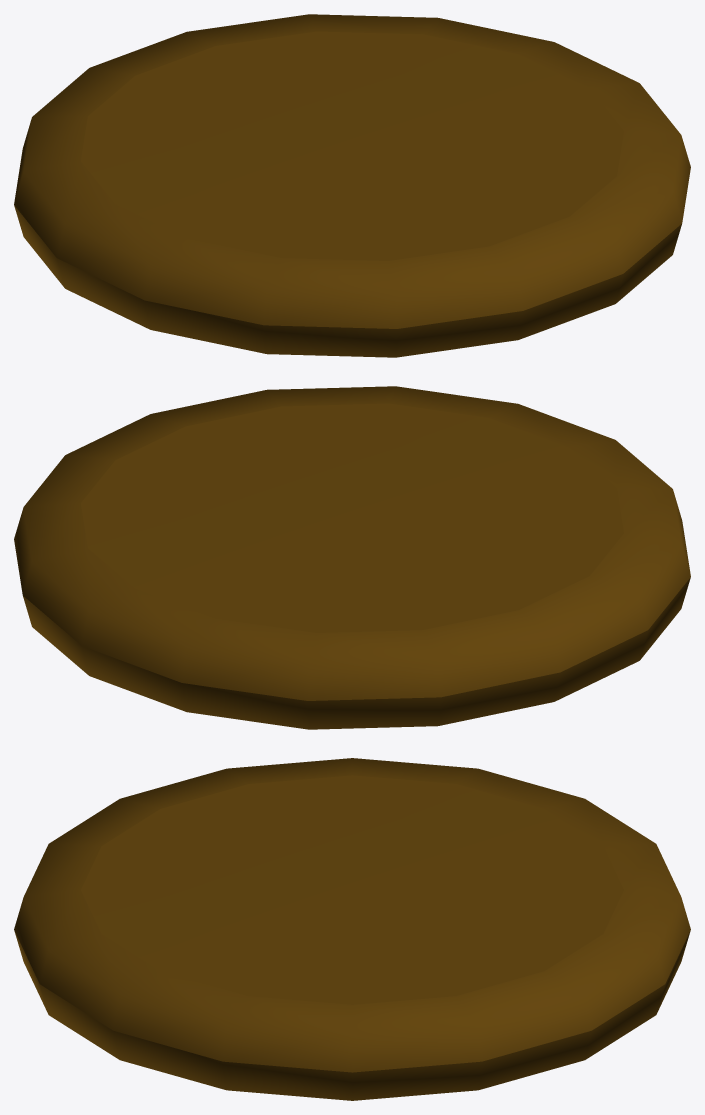
The model's file is burger_beef.fbx.
The picture shows the model from 3 angles, top to bottom: view 1: azimuth 30°, elevation 25°; view 2: azimuth 150°, elevation 25°; view 3: azimuth 270°, elevation 25°; orthographic projection.
Visible parts, largest first — view 1: meat; view 2: meat; view 3: meat.
Boxes of the visible parts, x1=… form: meat: x1=14, y1=14, x2=690, y2=357; meat: x1=14, y1=386, x2=690, y2=729; meat: x1=14, y1=758, x2=690, y2=1100.
Bounding box in the file's own units: 253 × 34.61 × 253.
1 material, 1 textured.
